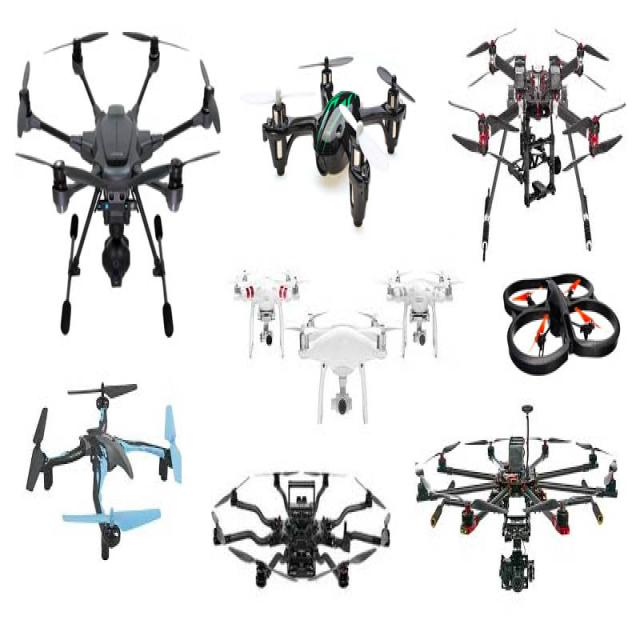drone: (0, 0, 225, 358), (408, 404, 640, 611), (447, 31, 640, 249), (2, 370, 189, 588), (202, 447, 402, 629), (249, 52, 431, 244), (487, 255, 628, 378), (290, 291, 394, 432), (380, 266, 460, 365), (232, 264, 300, 365)
